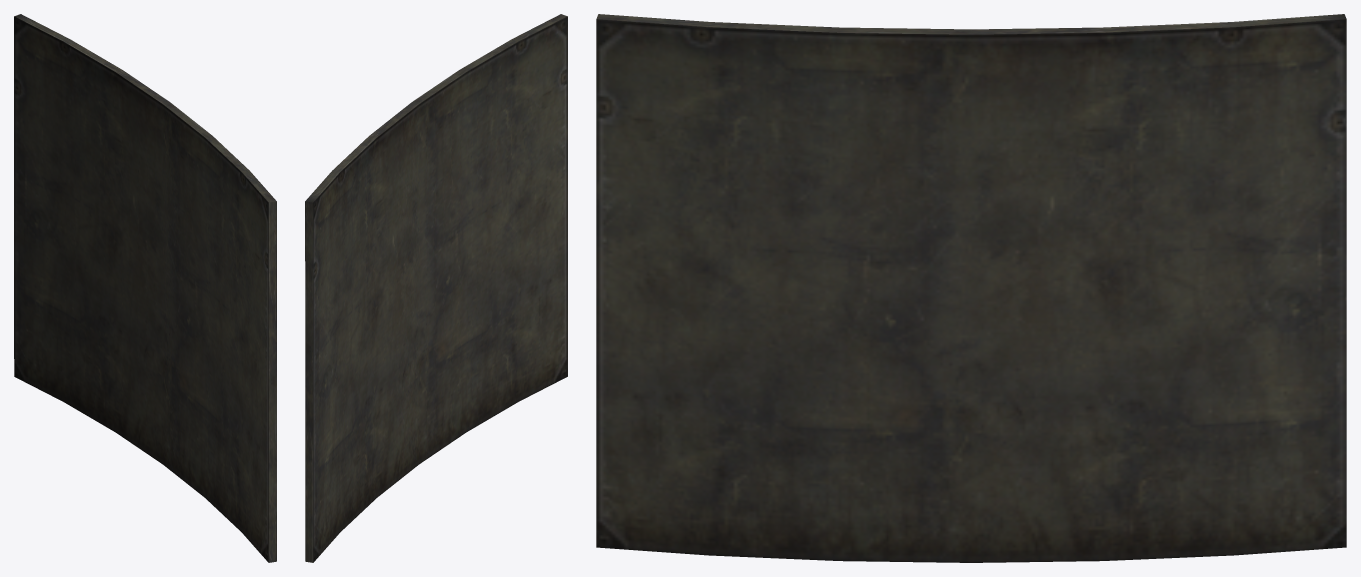
Rendered from 01_02_comm_room_panels.dae.
3 renders of one model, left to right at view 1: azimuth 30°, elevation 25°; view 2: azimuth 150°, elevation 25°; view 3: azimuth 270°, elevation 25°, orthographic. The views are drawn at different scales.
Parts seen in each view (by area): view 1: Mesh; view 2: Mesh; view 3: Mesh.
Boxes of the visible parts, x1,y1,x2,y2 form: Mesh: [14, 14, 276, 562]; Mesh: [305, 14, 567, 562]; Mesh: [596, 14, 1346, 562].
Bounding box in the file's own units: 0.2577 × 3.05 × 3.92.
